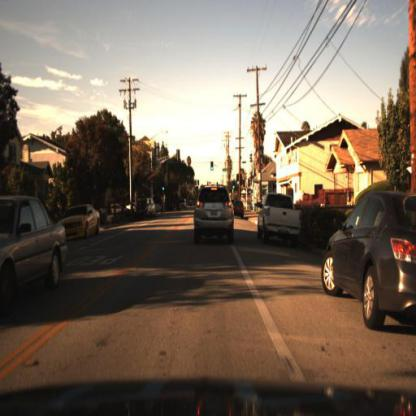car: (312, 161, 416, 345), (2, 196, 70, 307), (252, 177, 307, 259), (188, 186, 241, 261), (66, 202, 103, 240), (106, 201, 133, 221), (135, 195, 151, 223), (233, 193, 246, 223), (177, 192, 189, 215)
trafficLight-Green: (235, 172, 242, 188), (208, 158, 216, 171), (232, 181, 239, 192), (162, 183, 167, 197), (160, 179, 165, 192), (211, 161, 216, 174), (232, 183, 237, 195), (238, 180, 243, 189)
